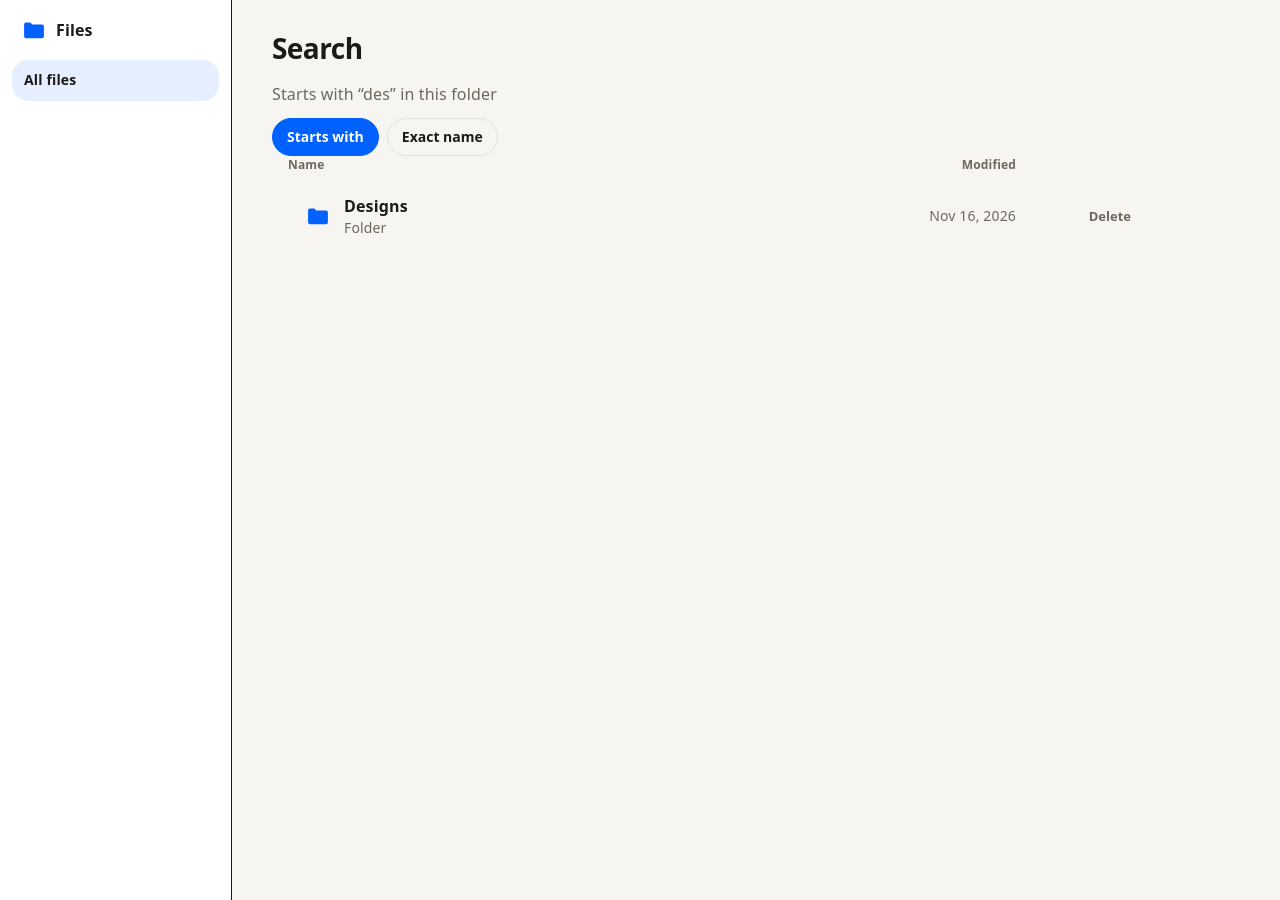
Scenario: search › opens a shared search and follows a result to its parent
Step 1. Click the link "Designs Folder" → (356, 216), box left=304, top=195, right=408, bottom=237
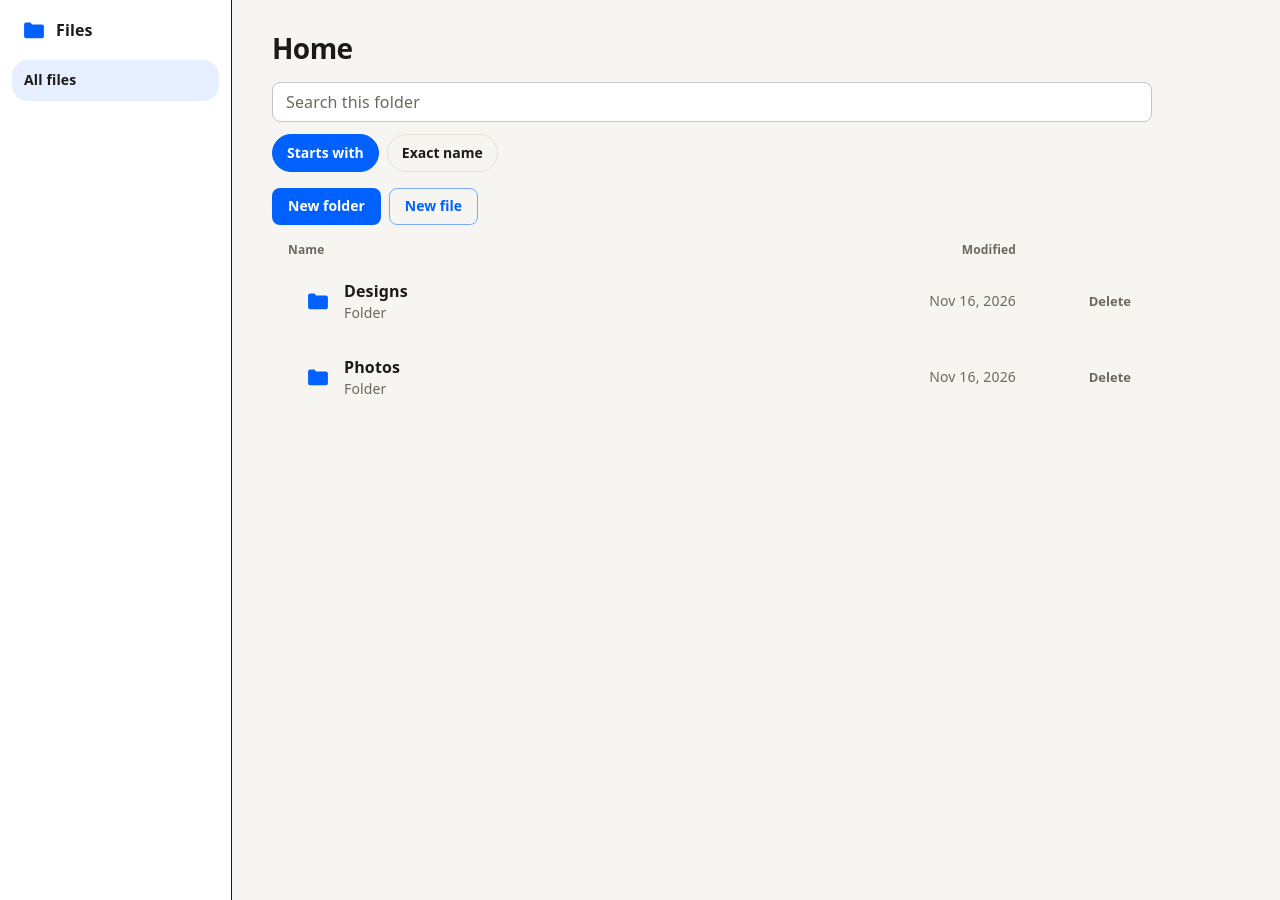
Check: the heading "Home" is shown, box left=272, top=29, right=353, bottom=67
